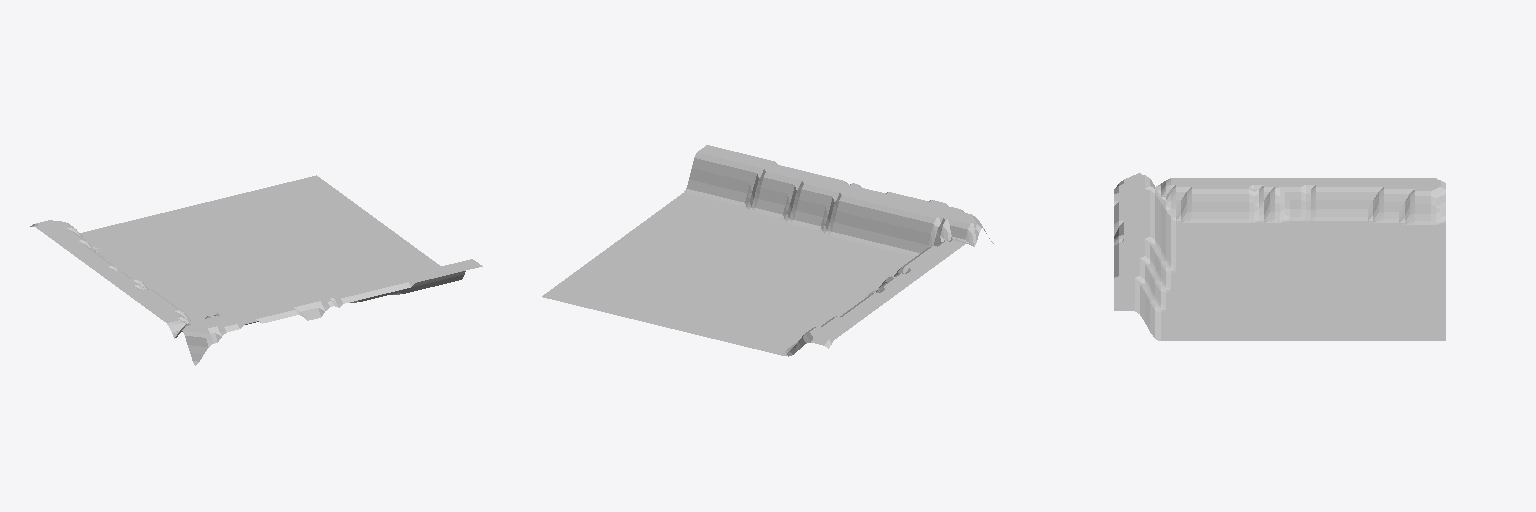
File: KociaLapkald.obj
The picture shows the model from 3 angles: view 1: azimuth 30°, elevation 25°; view 2: azimuth 150°, elevation 25°; view 3: azimuth 270°, elevation 25°; orthographic projection.
Parts seen in each view (by area): view 1: Plane.002; view 2: Plane.002; view 3: Plane.002.
Part boxes in pixels (bbox=[...]): Plane.002: bbox=[30, 175, 482, 365]; Plane.002: bbox=[542, 145, 993, 356]; Plane.002: bbox=[1114, 173, 1445, 340].
Size of the model in its own units: 100 by 10.12 by 100.